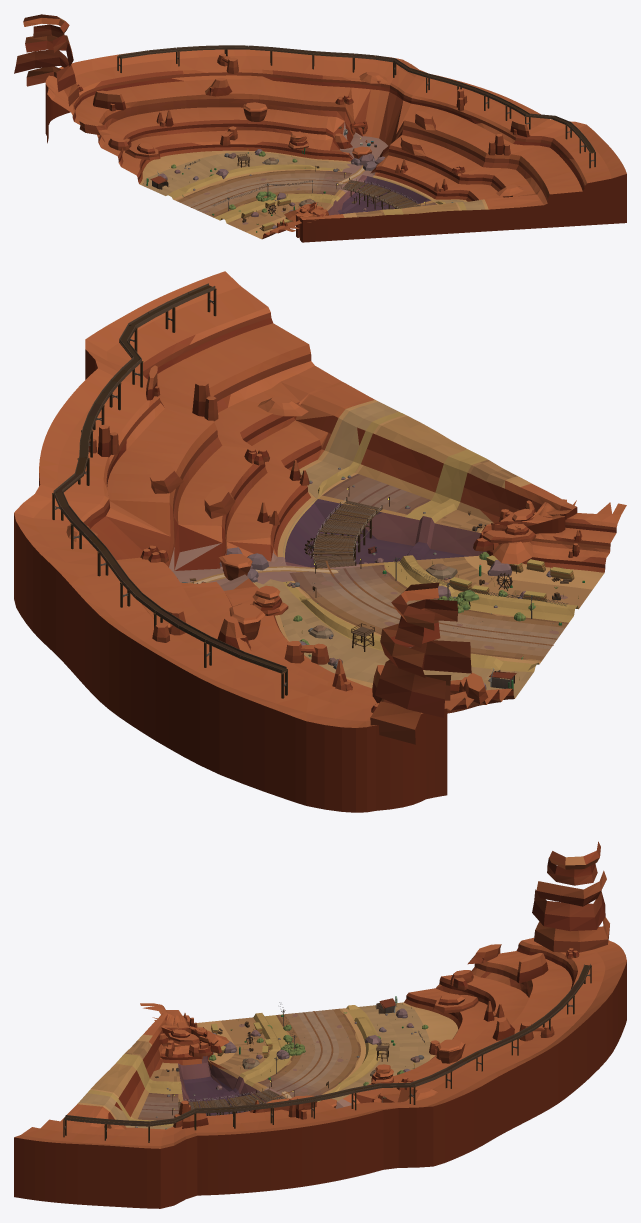
Rendered from chunk_section1_d.glb.
3 renders of one model, top to bottom at view 1: azimuth 30°, elevation 25°; view 2: azimuth 150°, elevation 25°; view 3: azimuth 270°, elevation 25°, orthographic. The views are drawn at different scales.
Visible parts, largest first — view 1: chunk_section1_d; view 2: chunk_section1_d; view 3: chunk_section1_d.
Part boxes in pixels (x1,y1,x2,y2): chunk_section1_d: [14, 14, 626, 242]; chunk_section1_d: [14, 271, 626, 812]; chunk_section1_d: [14, 841, 626, 1208].
Bounding box in the file's own units: 630 × 200 × 708.
